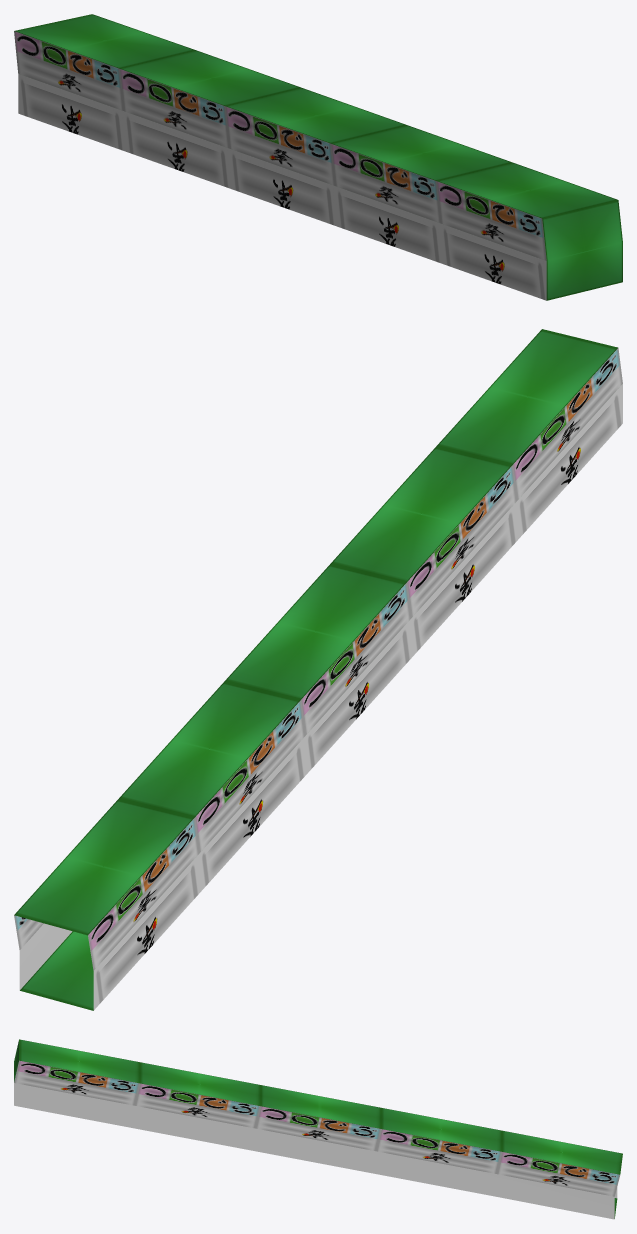
Rendered from CourseSummer_Wall_R_1.fbx.
3 views of the same model, one above another, from view 1: azimuth 30°, elevation 25°; view 2: azimuth 150°, elevation 25°; view 3: azimuth 270°, elevation 25° (orthographic). The views are drawn at different scales.
Parts seen in each view (by area): view 1: polySurface84; view 2: polySurface84; view 3: polySurface84.
Part boxes in pixels (left/top/right/bottom): polySurface84: left=14, top=14, right=622, bottom=300; polySurface84: left=14, top=329, right=622, bottom=1010; polySurface84: left=14, top=1039, right=622, bottom=1219.
Size of the model in its own units: 2.01 by 6.98 by 24.22.
Materials: 1 (1 with a texture image).
